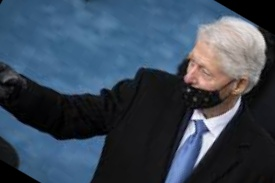mask_weared_incorrect: (180, 40, 242, 111)
